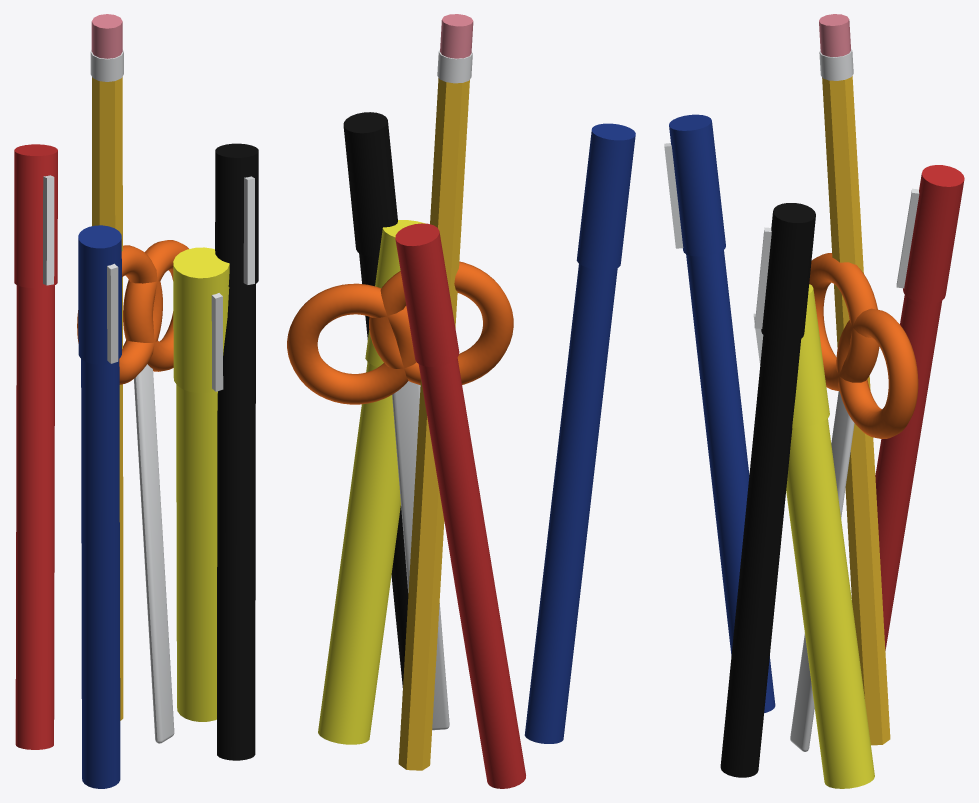
Rendered from herodesk-office-pen-cup.glb.
3 views of the same model, side by side, from view 1: azimuth 30°, elevation 25°; view 2: azimuth 150°, elevation 25°; view 3: azimuth 270°, elevation 25° (orthographic). The views are drawn at different scales.
Parts seen in each view (by area): view 1: herodesk-office-pen-cup · mesh; view 2: herodesk-office-pen-cup · mesh; view 3: herodesk-office-pen-cup · mesh.
Part boxes in pixels (x1,y1,x2,y2): herodesk-office-pen-cup · mesh: (14,14,258,788); herodesk-office-pen-cup · mesh: (287,14,635,788); herodesk-office-pen-cup · mesh: (664,14,964,788).
Bounding box in the file's own units: 0.0616 × 0.1857 × 0.0708.
